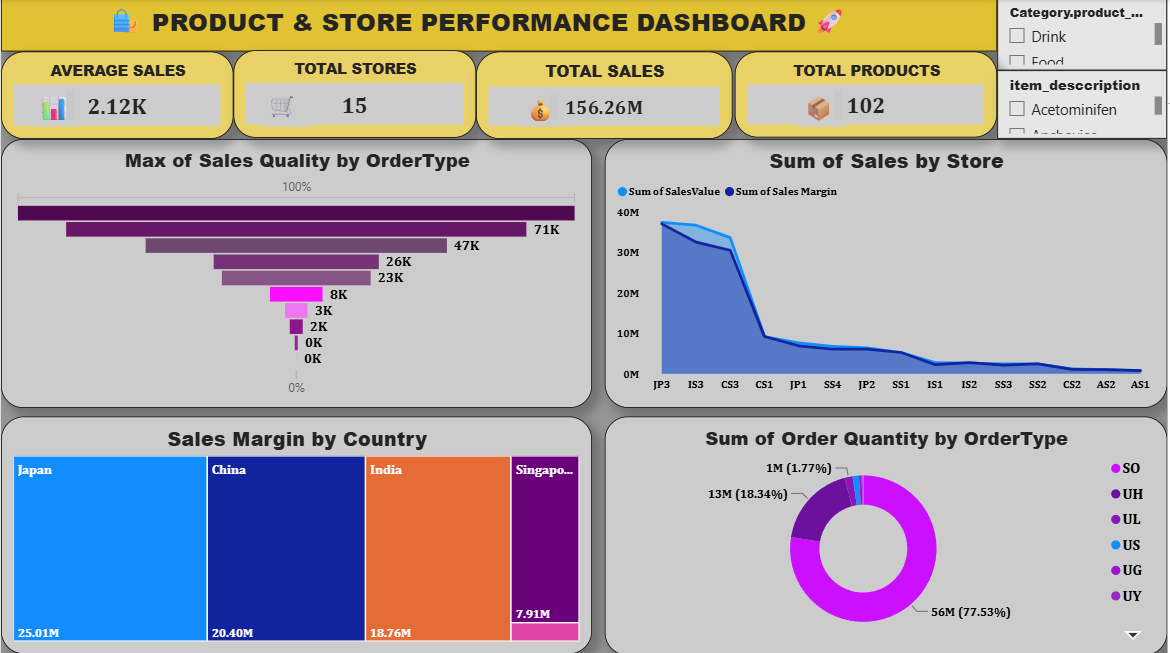

The dashboard page shown, as its layout file describes it:
{"tool":"powerbi","page":{"name":"Page 2","canvas":[1280,720],"ordinal":1},"visuals":[{"type":"funnel","title":"Max  of Sales Quality by OrderType","fields":{"Category":["Sales.OrderType"],"Y":["Max(Sales.SalesQuantity)"]},"box":[0,153.7,649.1,295],"z":0},{"type":"areaChart","title":"Sum of Sales by Store","fields":{"Category":["Customer.Store"],"Y":["Sum(Sales.SalesValue)"],"Y2":["Sum(Sales.Sales Margin)"]},"box":[662.8,153.7,617.5,295],"z":1000},{"type":"treemap","title":" Sales Margin by Country","fields":{"Group":["Customer.Country"],"Values":["Sum(Sales.Sales Margin)"]},"box":[0,459,649,261],"z":2000},{"type":"donutChart","title":"Sum of Order Quantity by OrderType","fields":{"Y":["Sum(Sales.OrderQuantity)"],"Category":["Sales.OrderType"]},"box":[662.8,458.3,617.5,262.1],"z":3000},{"type":"textbox","box":[0,0,1093.7,57.6],"z":4000},{"type":"textbox","box":[113.9,0,48,48],"z":5000},{"type":"textbox","box":[886.5,0,50.8,48],"z":6000},{"type":"slicer","fields":{"Values":["Item.Category.product_category_description"]},"box":[1093.7,0,186.6,78.2],"z":7000},{"type":"cardVisual","title":"AVERAGE SALES ","fields":{"Data":["Sales.AVERAGE SALES MARGIN"]},"box":[0,57.6,255.2,96.1],"z":8000},{"type":"textbox","box":[34.3,96.1,50.8,43.9],"z":9000},{"type":"cardVisual","title":"TOTAL STORES","fields":{"Data":["Store.TOTAL STORES"]},"box":[255.2,56.3,266.2,96.1],"z":10000},{"type":"textbox","box":[286.8,96.1,54.9,43.9],"z":11000},{"type":"cardVisual","title":"TOTAL SALES","fields":{"Data":["Sales.Total Sales"]},"box":[521.4,57.6,281.3,96.1],"z":12000},{"type":"textbox","box":[570.8,100.2,43.9,39.8],"z":13000},{"type":"cardVisual","title":"TOTAL PRODUCTS","fields":{"Data":["Item.TOTAL PRODUCTS"]},"box":[805.5,57.6,288.2,94.7],"z":14000},{"type":"textbox","box":[874.1,96.1,53.5,43.9],"z":15000},{"type":"slicer","fields":{"Values":["Item.item_desccription"]},"box":[1093.7,78.2,186.6,75.5],"z":16000}]}

Visuals, with their boxes in screenshot pixels (x1, y1, x2, y2), scaled from the page's 1280x720 canvas onto the 1170x653 screenshot:
"Max  of Sales Quality by OrderType" funnel: crop(0, 139, 593, 407)
"Sum of Sales by Store" areaChart: crop(606, 139, 1169, 407)
" Sales Margin by Country" treemap: crop(0, 416, 593, 652)
"Sum of Order Quantity by OrderType" donutChart: crop(606, 416, 1169, 652)
textbox: crop(0, 0, 1000, 52)
textbox: crop(104, 0, 148, 44)
textbox: crop(810, 0, 857, 44)
slicer - Item.Category.product_category_description: crop(1000, 0, 1169, 71)
"AVERAGE SALES " cardVisual: crop(0, 52, 233, 139)
textbox: crop(31, 87, 78, 127)
"TOTAL STORES" cardVisual: crop(233, 51, 477, 138)
textbox: crop(262, 87, 312, 127)
"TOTAL SALES" cardVisual: crop(477, 52, 734, 139)
textbox: crop(522, 91, 562, 127)
"TOTAL PRODUCTS" cardVisual: crop(736, 52, 1000, 138)
textbox: crop(799, 87, 848, 127)
slicer - Item.item_desccription: crop(1000, 71, 1169, 139)
